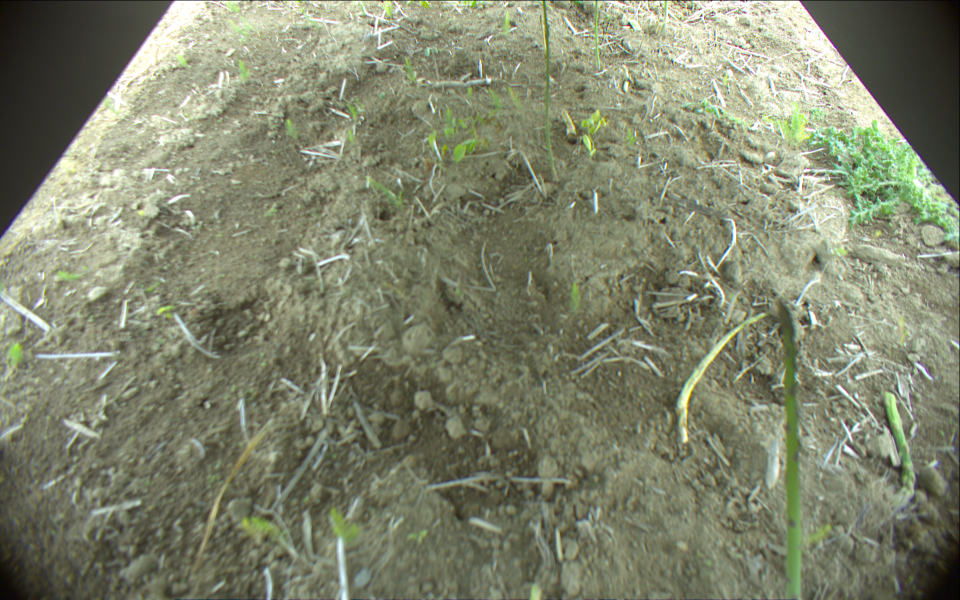aspa: (674, 313, 766, 445), (775, 301, 805, 600), (882, 390, 915, 509), (542, 1, 560, 182), (591, 1, 602, 72), (662, 1, 671, 30)
